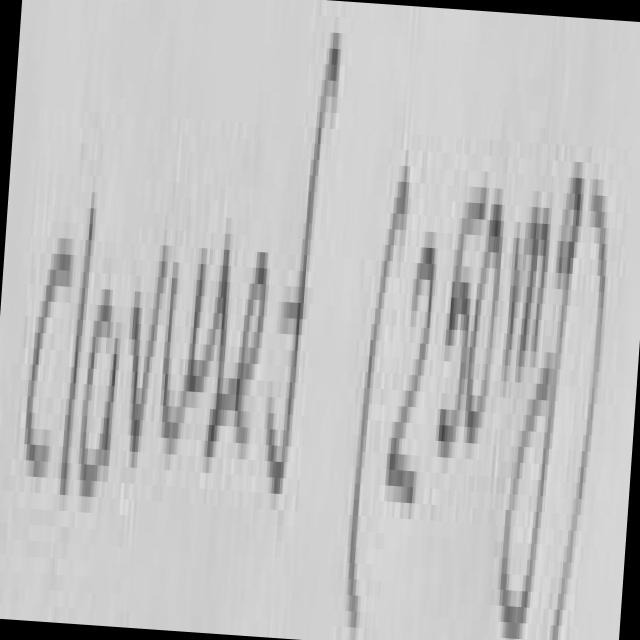0: (467, 204, 503, 443)
2: (388, 247, 437, 502)
5: (441, 187, 488, 457)
C: (24, 238, 72, 476)
a: (80, 291, 121, 508)
e: (235, 252, 267, 443)
f: (267, 32, 340, 493)
g: (502, 177, 583, 638)
l: (60, 208, 92, 487)
m: (505, 201, 551, 381)
s: (198, 249, 230, 449)
u: (162, 262, 205, 454)
v: (129, 245, 167, 467)
